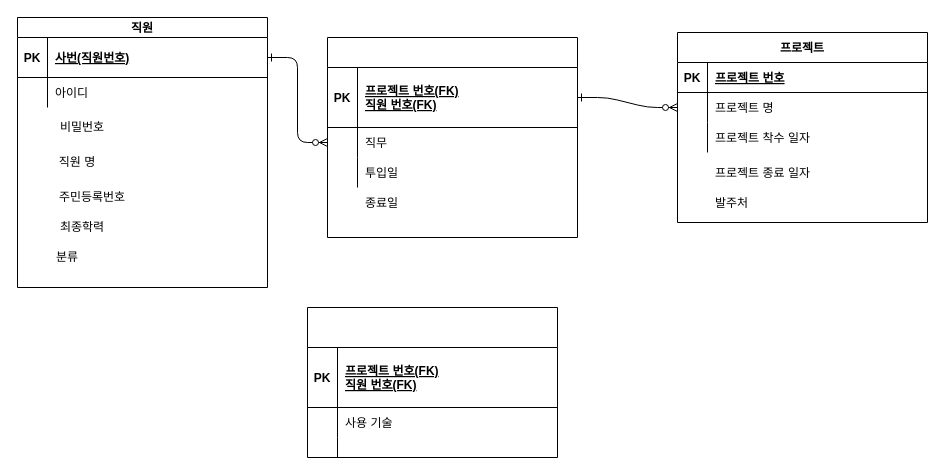
The diagram is 945 pixels wide and 475 high, and some of its shapes have lost their labels. The box of each missing label's shape, as (x1, y1, x2, y2) in pixels:
직원기술: (306, 306, 558, 458)
프로젝트 참여 직원: (326, 36, 578, 238)
